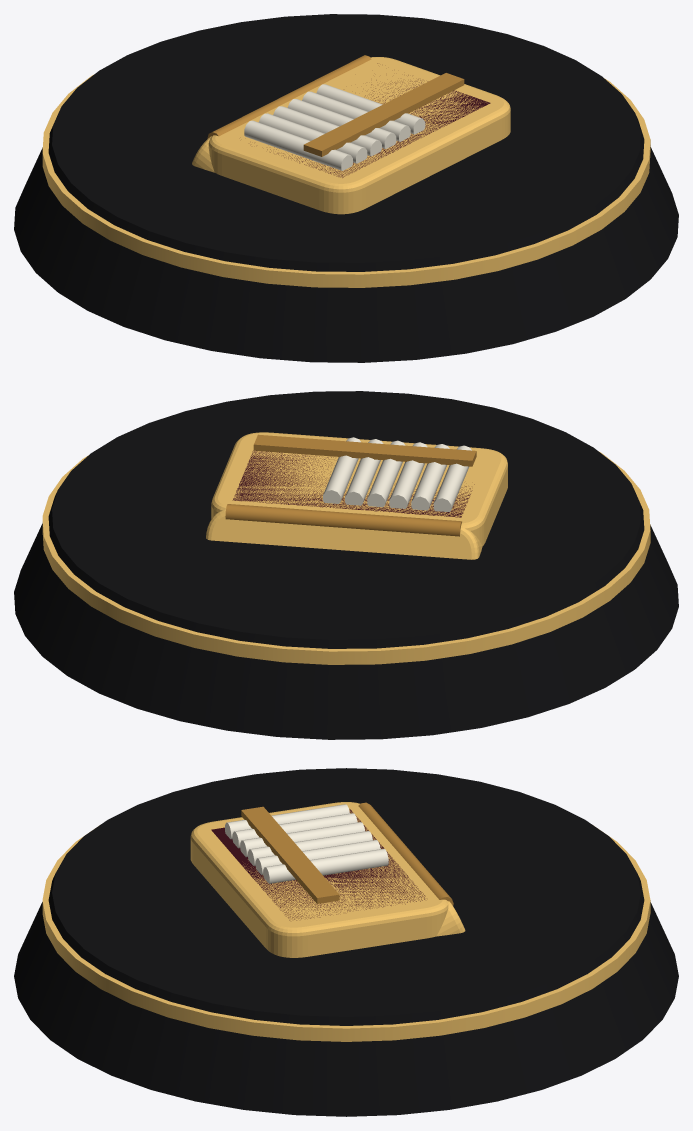
Rendered from gold-cigarette-case.glb.
The picture shows the model from 3 angles, top to bottom: view 1: azimuth 30°, elevation 25°; view 2: azimuth 150°, elevation 25°; view 3: azimuth 270°, elevation 25°; orthographic projection.
Visible parts, largest first — view 1: black, gold, paper, gold-dark, velvet; view 2: black, gold, gold-dark, paper, velvet; view 3: black, gold, paper, velvet, gold-dark.
Part boxes in pixels (x1,y1,x2,y2): black: [14, 14, 678, 362]; gold: [42, 57, 650, 287]; paper: [244, 84, 425, 170]; gold-dark: [207, 55, 464, 156]; velvet: [267, 63, 490, 177]; black: [14, 391, 678, 739]; gold: [42, 432, 650, 664]; gold-dark: [225, 434, 476, 536]; paper: [323, 437, 471, 512]; velvet: [232, 450, 474, 517]; black: [14, 768, 678, 1116]; gold: [42, 802, 650, 1041]; paper: [225, 804, 388, 883]; velvet: [211, 809, 425, 920]; gold-dark: [241, 802, 453, 905].
Bounding box in the file's own units: 0.252 × 0.0787 × 0.252.
